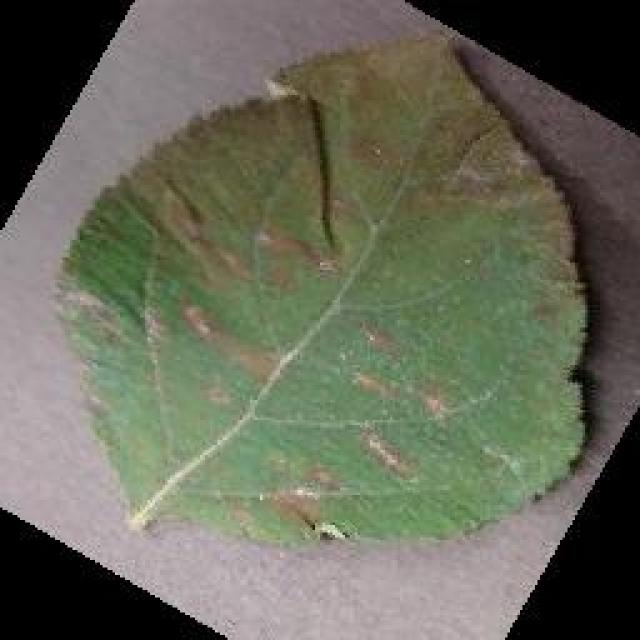apple cedar apple rust: (50, 30, 595, 550)
